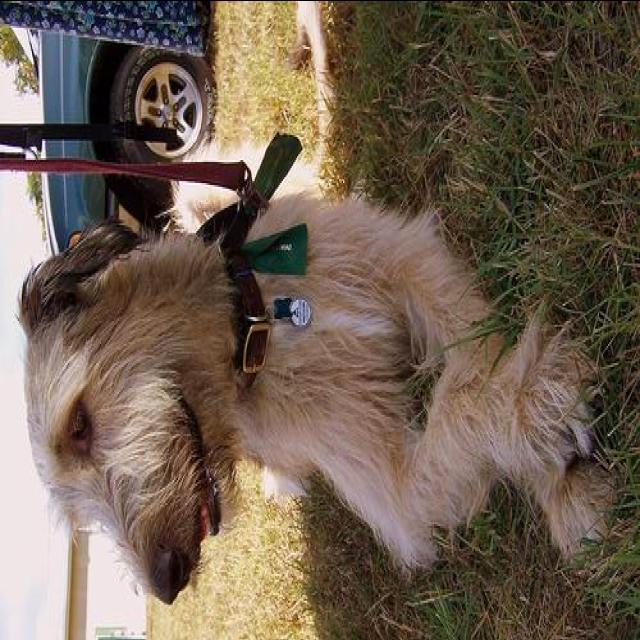irish_wolfhound: (13, 194, 617, 604)
